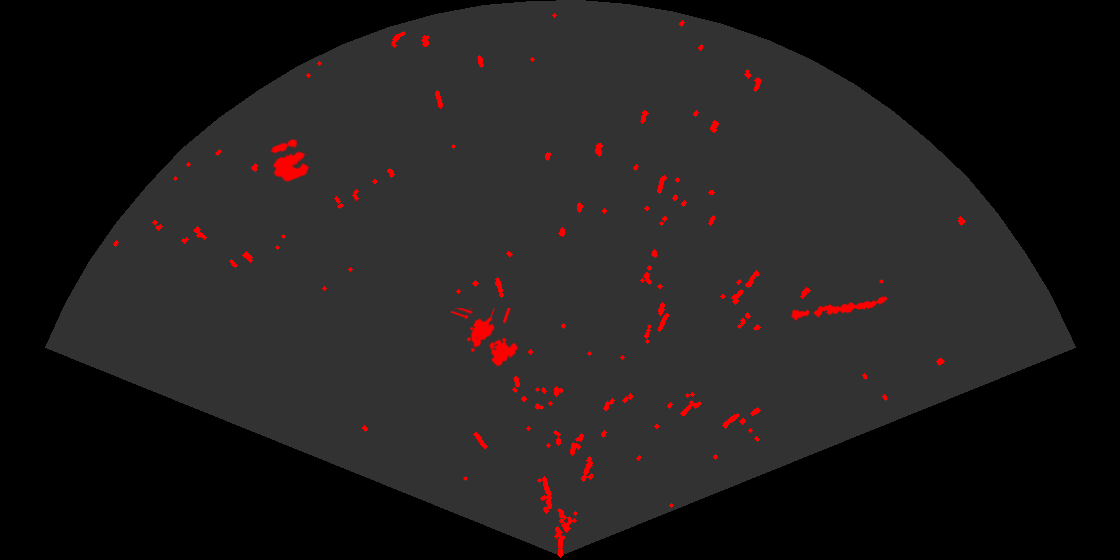ball: (269, 137, 311, 184)
cage: (451, 308, 520, 368)
chain: (789, 295, 889, 322)
